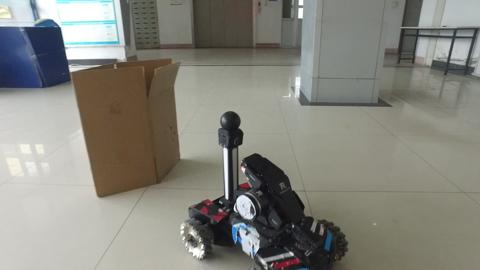box: (73, 58, 175, 185)
chariot: (178, 109, 354, 270)
